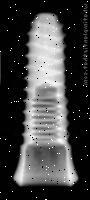Hiossen: (14, 11, 78, 186)
